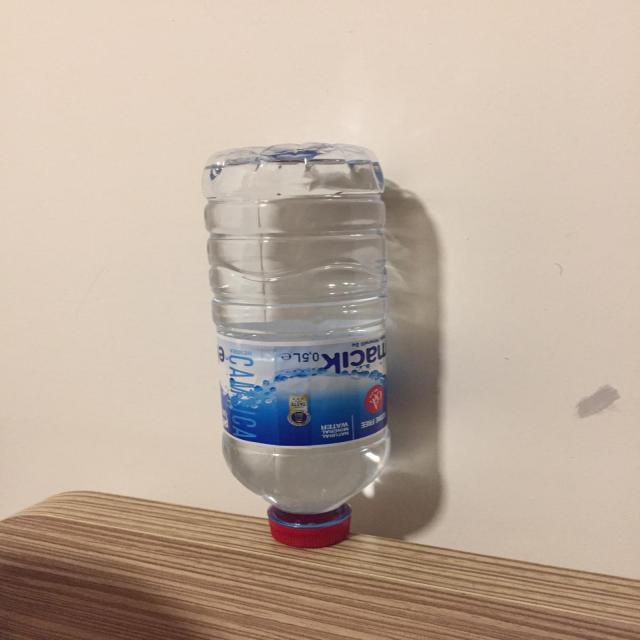bottle: (179, 138, 413, 550)
